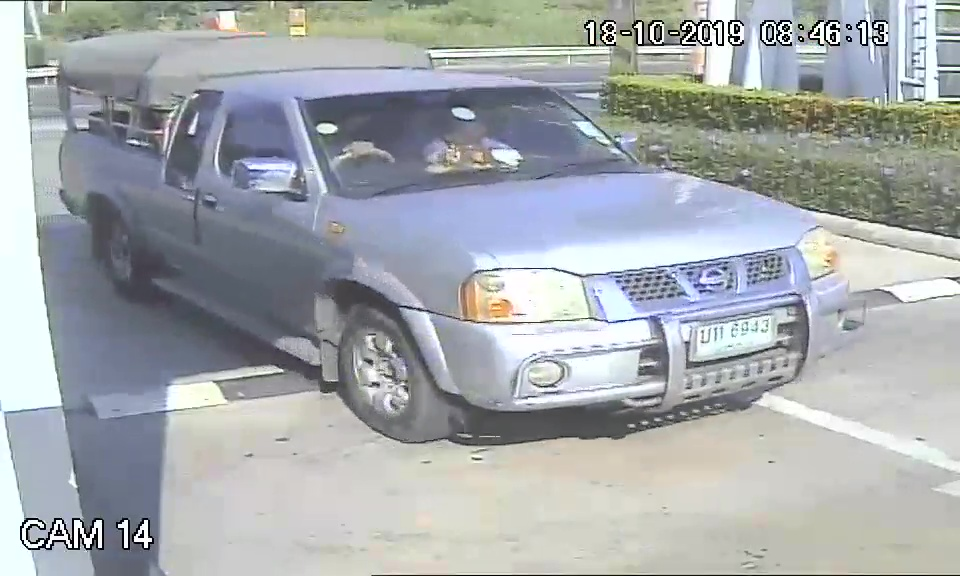pickup: (55, 61, 866, 449)
